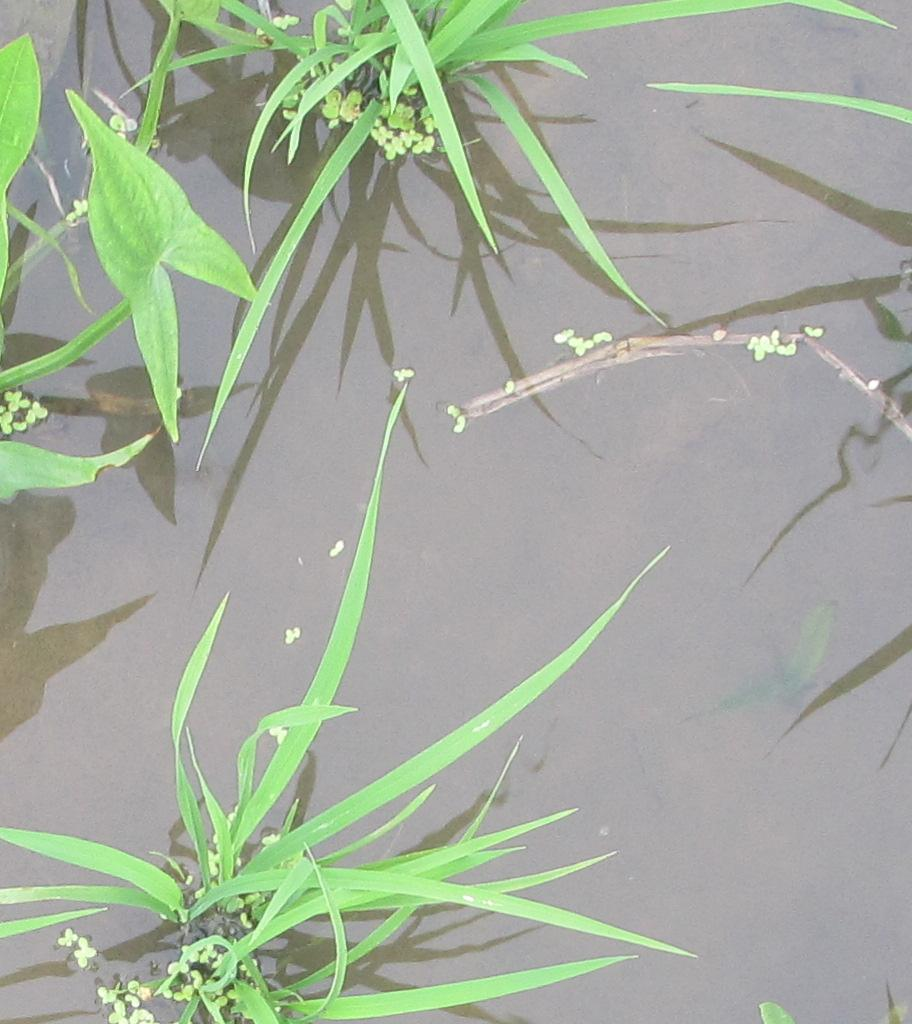Weed: (63, 86, 266, 444), (7, 38, 49, 500)
